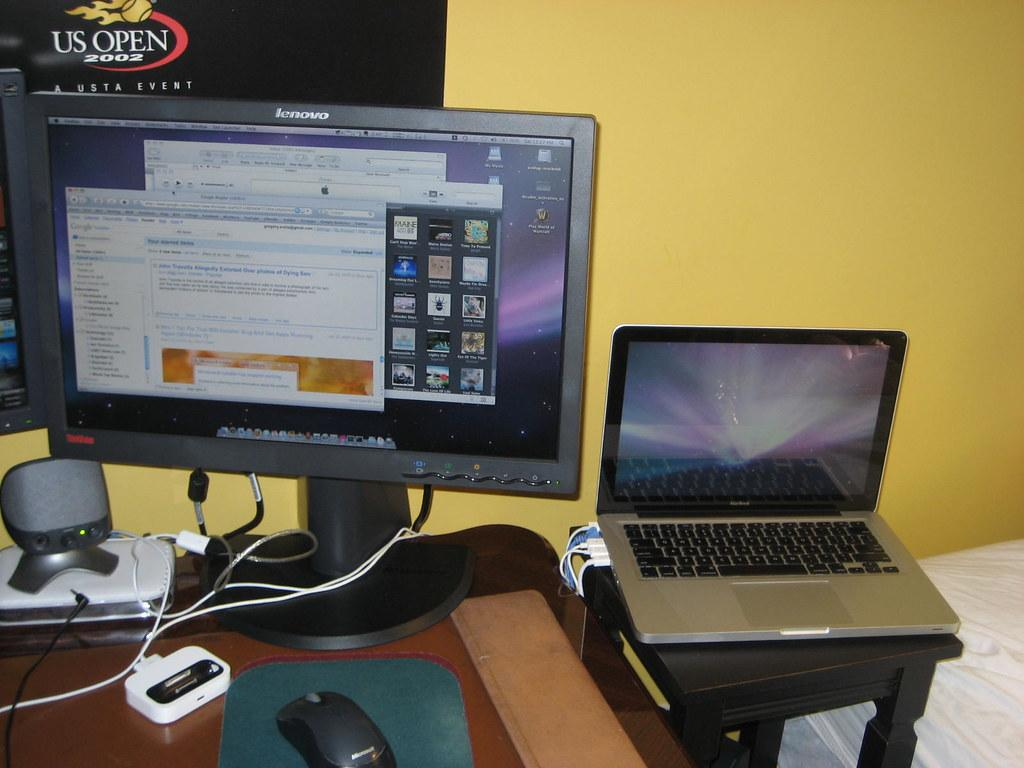computer: (21, 82, 598, 651), (596, 324, 962, 645)
